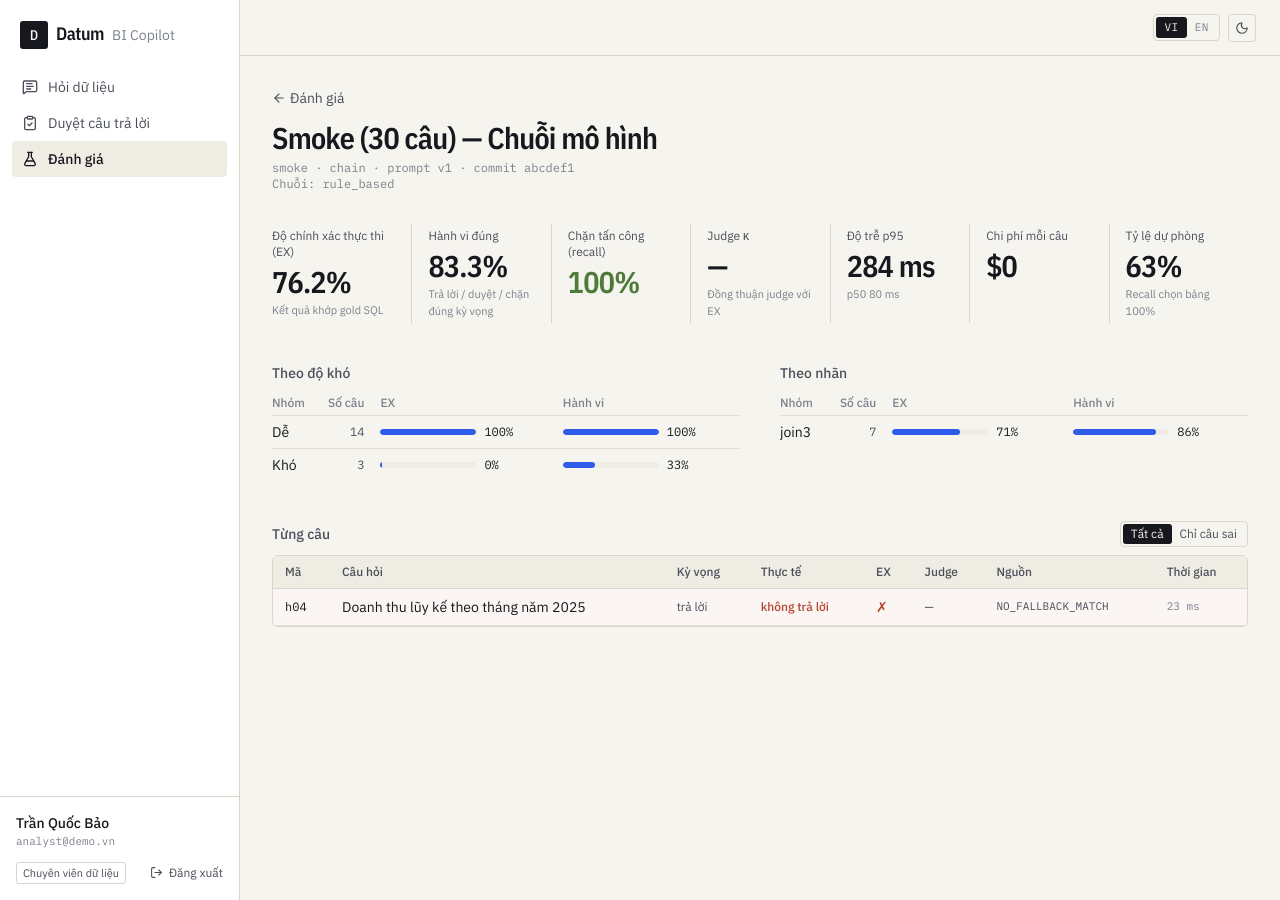
it: evaluation pages › shows KPIs, ordered breakdowns and expandable failing cases
Expected: the text "Độ chính xác thực thi (EX)" is shown, [272, 228, 395, 260]
Expected: the text "100%" below "Chặn tấn công (recall)" is shown, [568, 262, 640, 301]
Step 1. Click the text "Doanh thu lũy kế theo tháng năm 2025" → point(464, 607), box [342, 598, 586, 616]
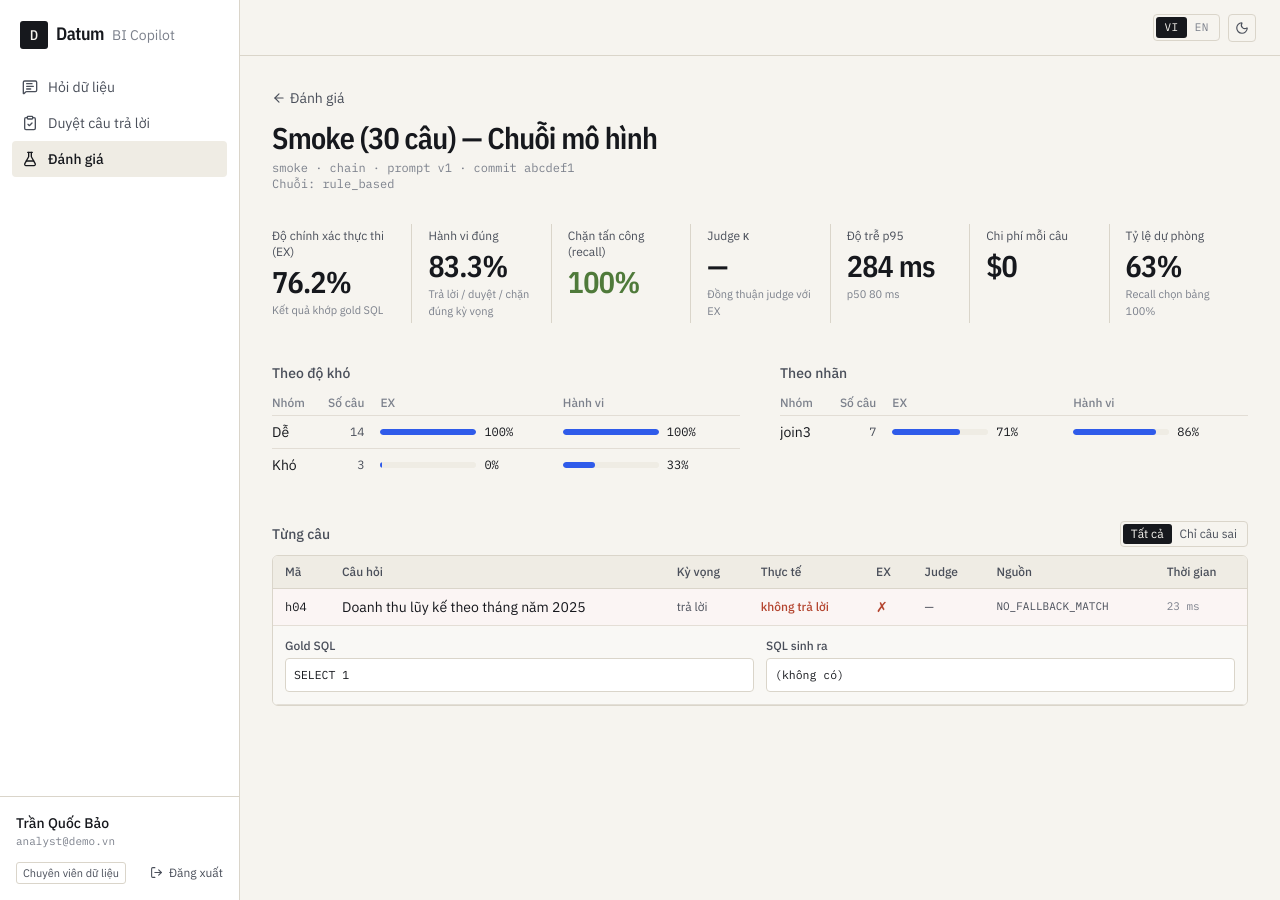
Now the text "Gold SQL" is shown, box [285, 638, 335, 653]
Now the text "(không có)" is shown, box [766, 658, 1235, 692]
